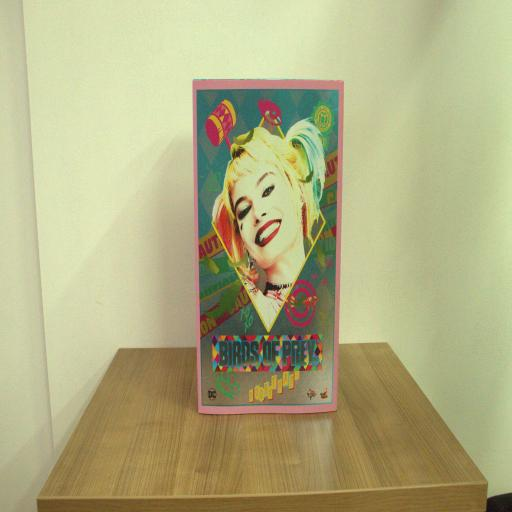Harley: (191, 73, 343, 415)
